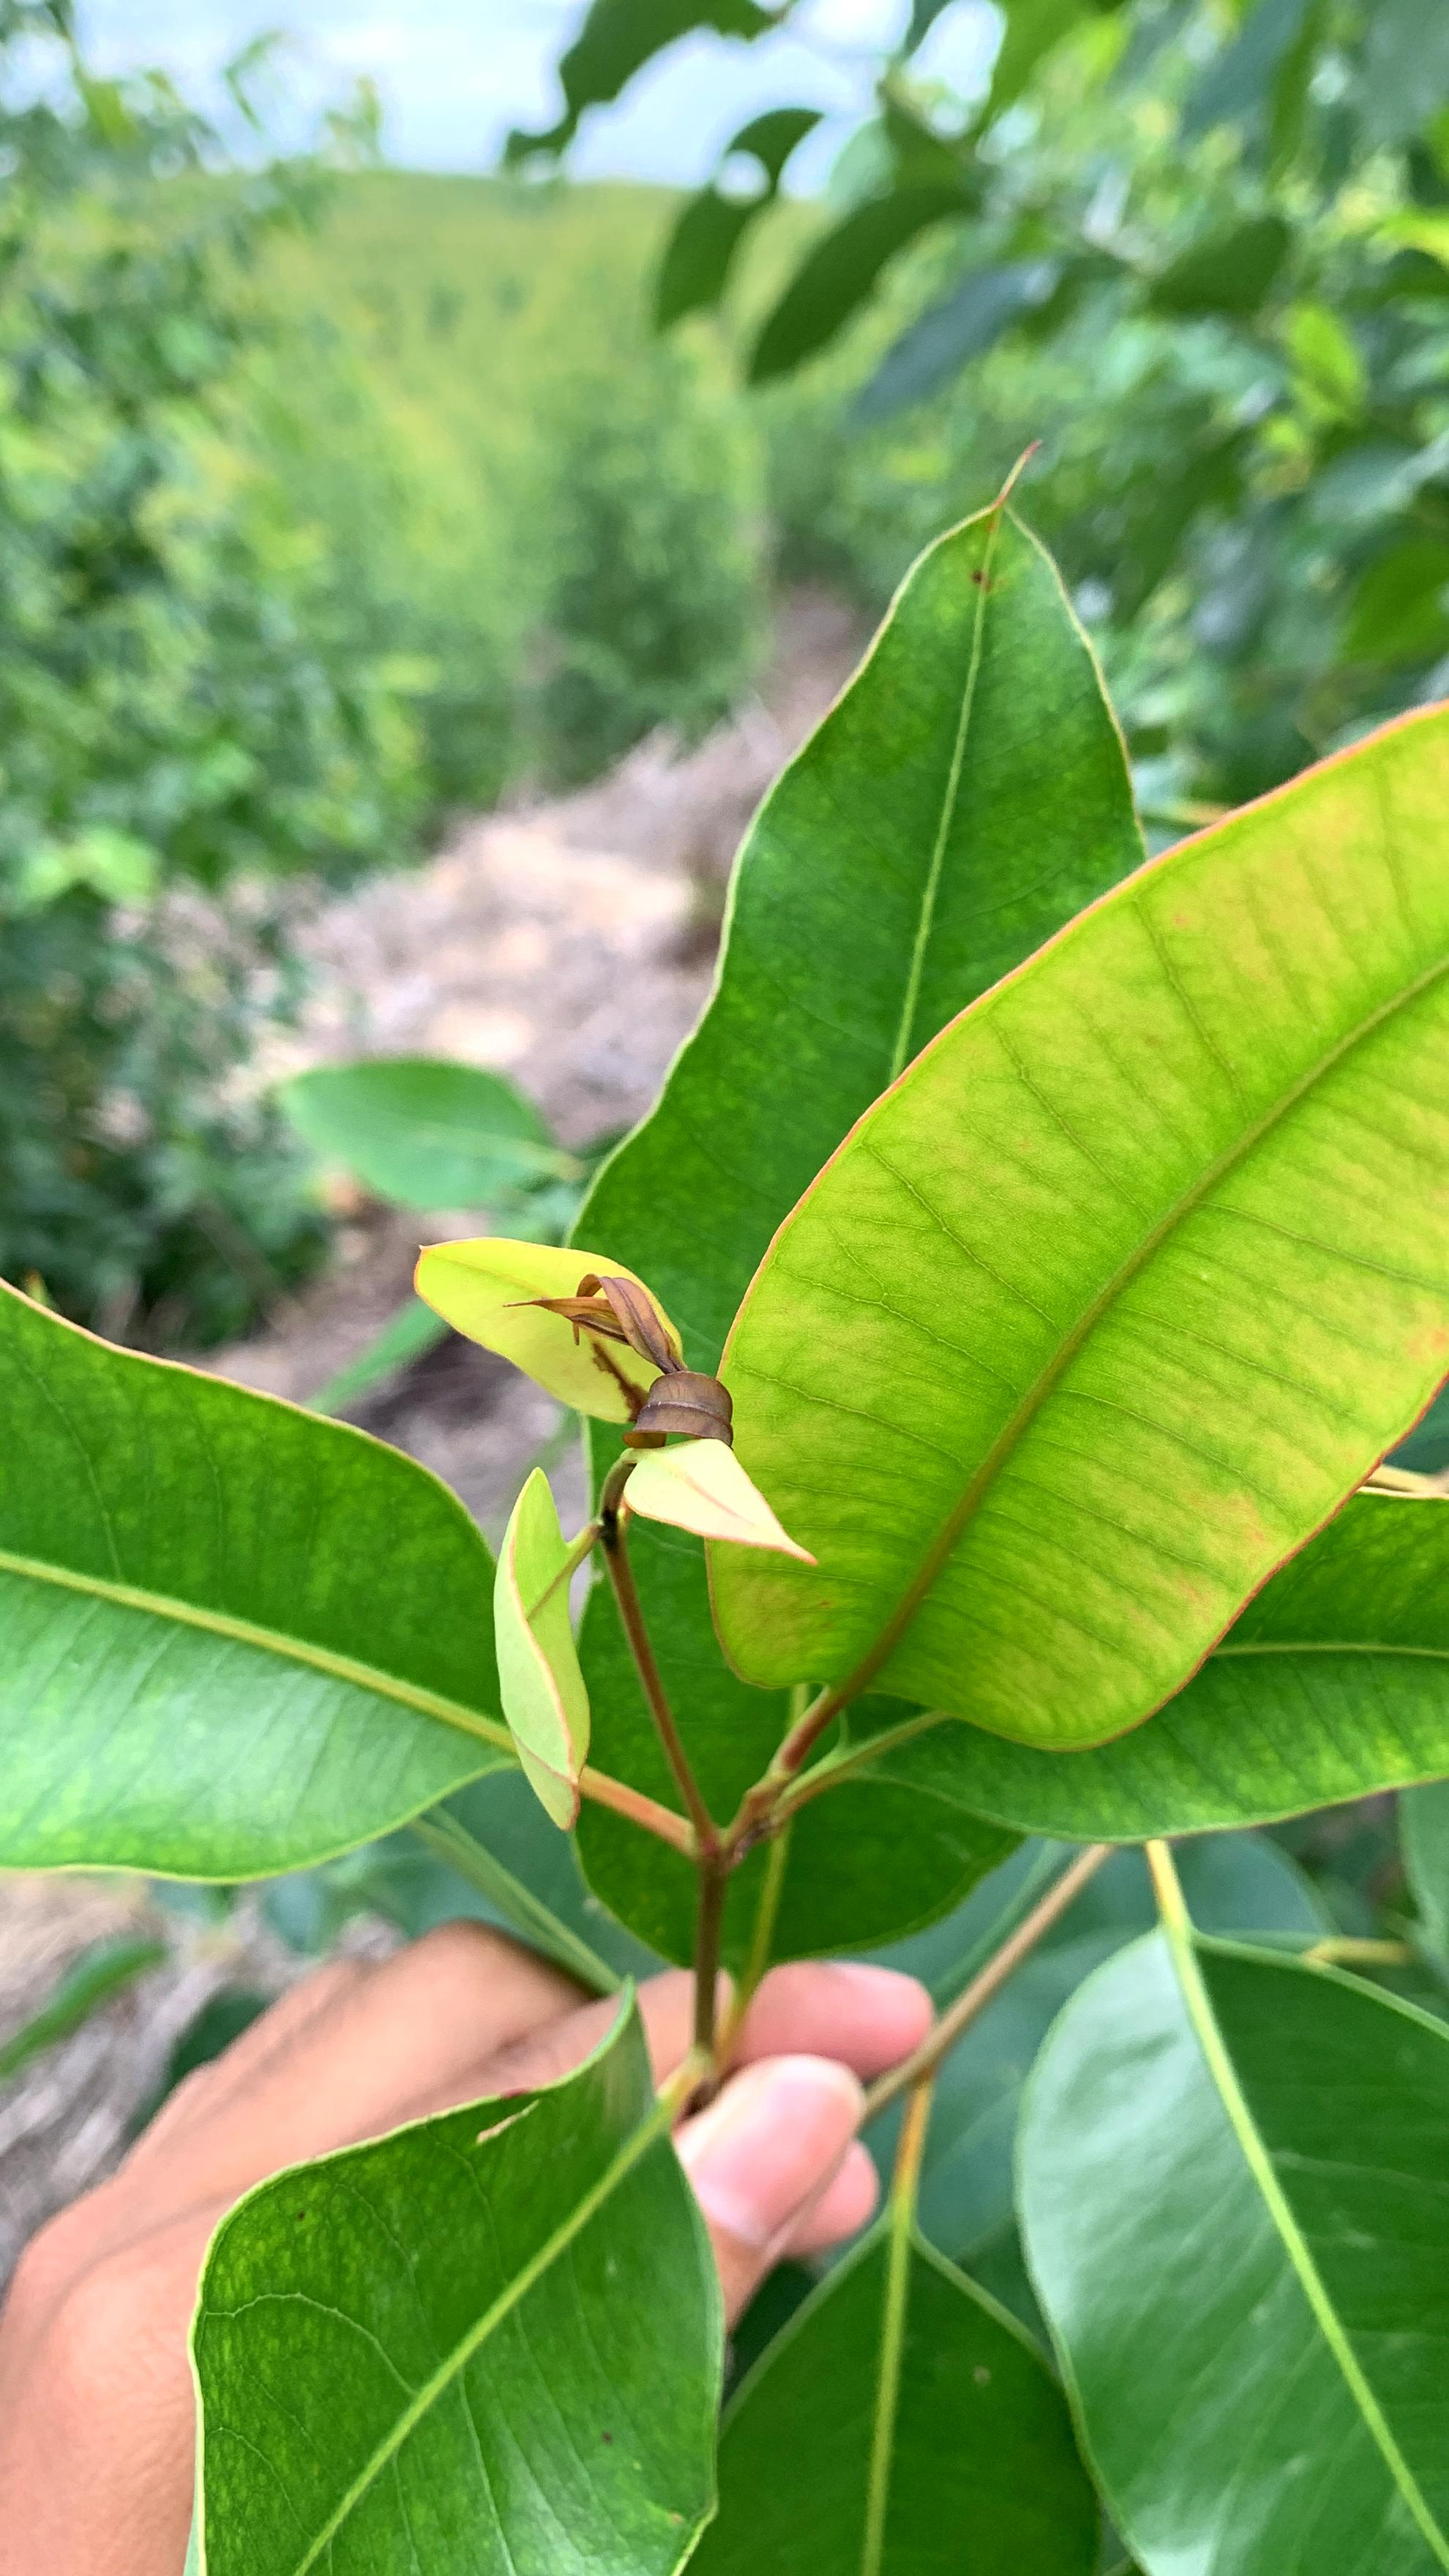Helopeltis-Withered Sprout: (538, 1253, 759, 1513)
